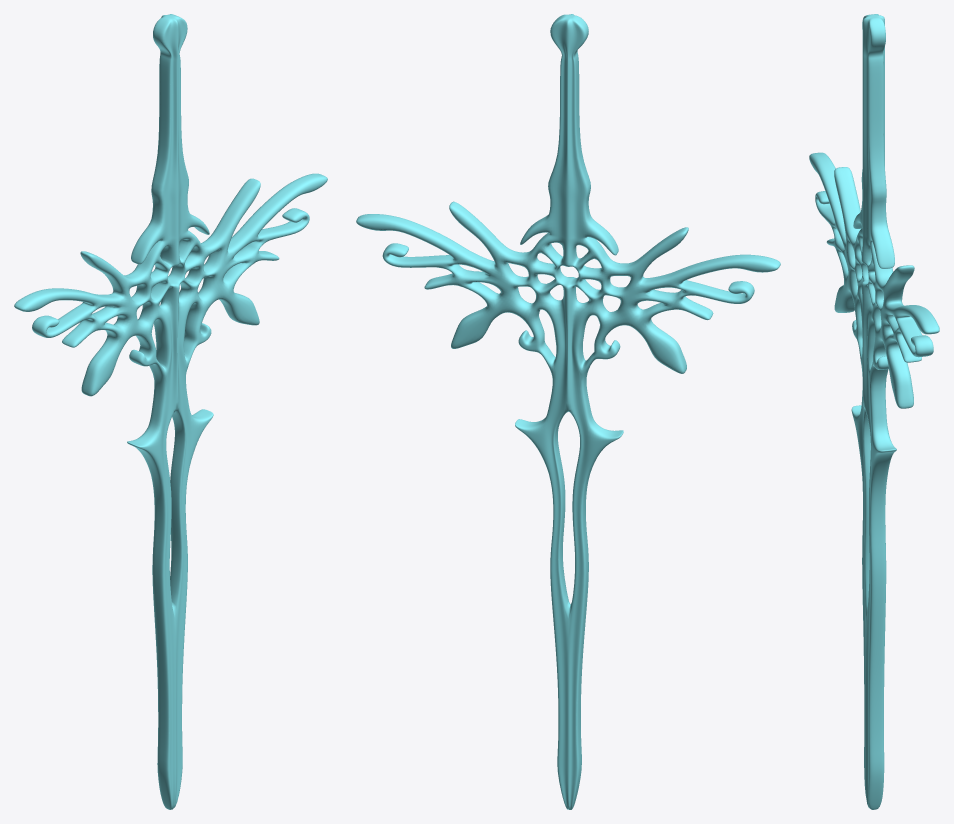
The model's file is ashnikko-sword.1.glb.
The picture shows the model from 3 angles, left to right: view 1: azimuth 30°, elevation 25°; view 2: azimuth 150°, elevation 25°; view 3: azimuth 270°, elevation 25°; orthographic projection.
Visible parts, largest first — view 1: sword; view 2: sword; view 3: sword.
Part boxes in pixels (bbox=[...]): sword: bbox=[14, 14, 327, 809]; sword: bbox=[356, 14, 780, 809]; sword: bbox=[809, 14, 939, 809].
Bounding box in the file's own units: 4.3 × 8.88 × 1.32.
